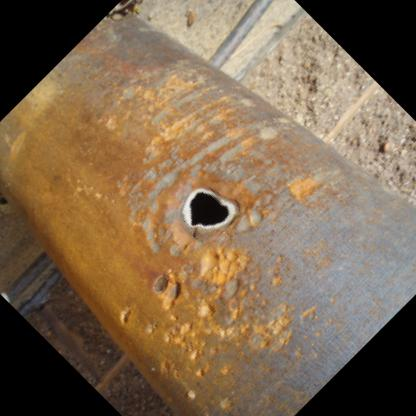burst: (173, 180, 255, 242)
